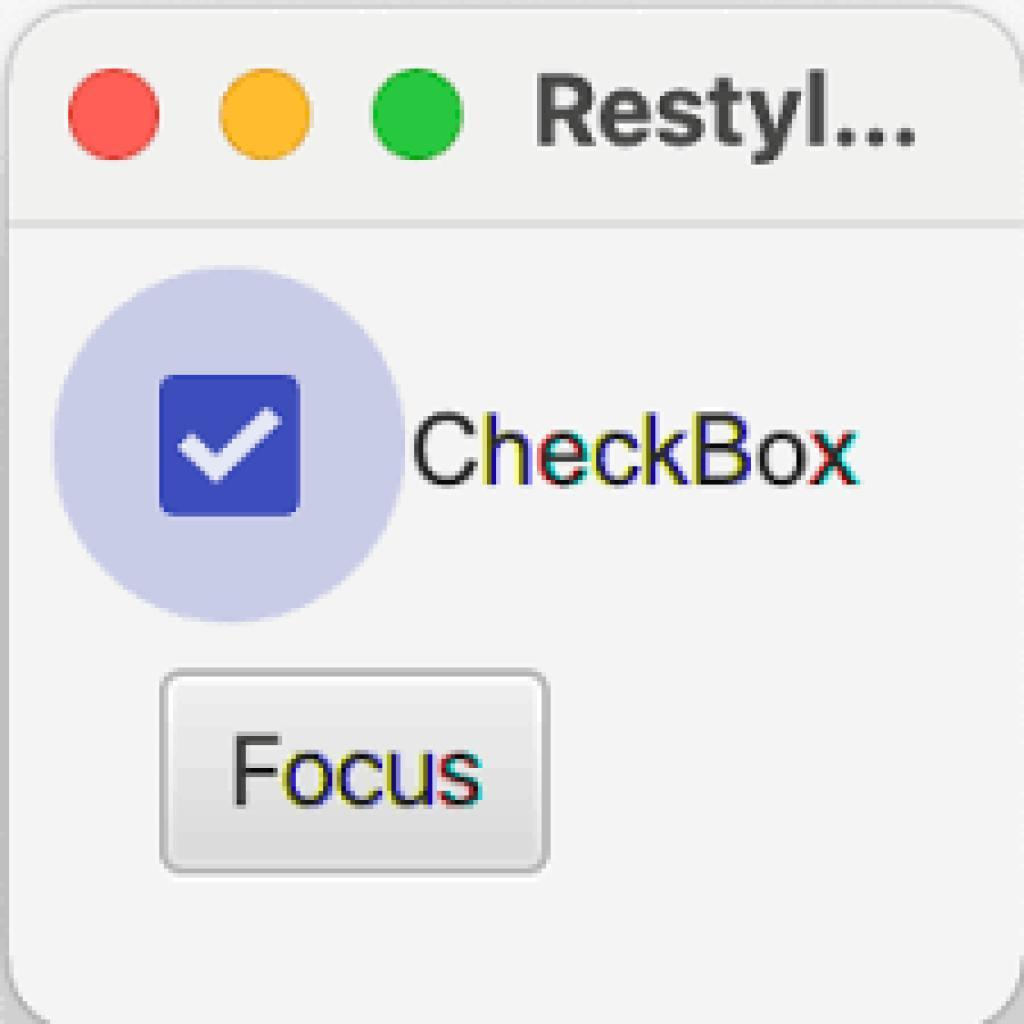button: (169, 673, 544, 867)
checkbox: (159, 378, 301, 519)
radio: (219, 66, 318, 162), (372, 68, 465, 169), (68, 70, 164, 162)
